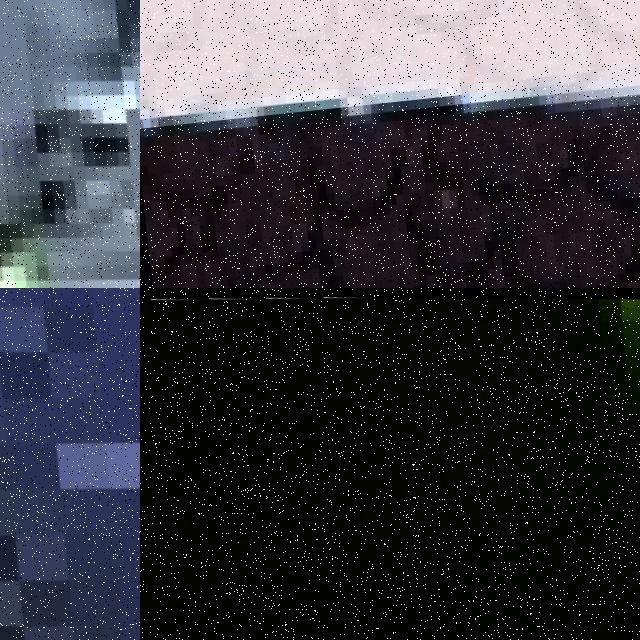0: (0, 0, 140, 288)
drone: (140, 288, 640, 640), (0, 288, 140, 640)
